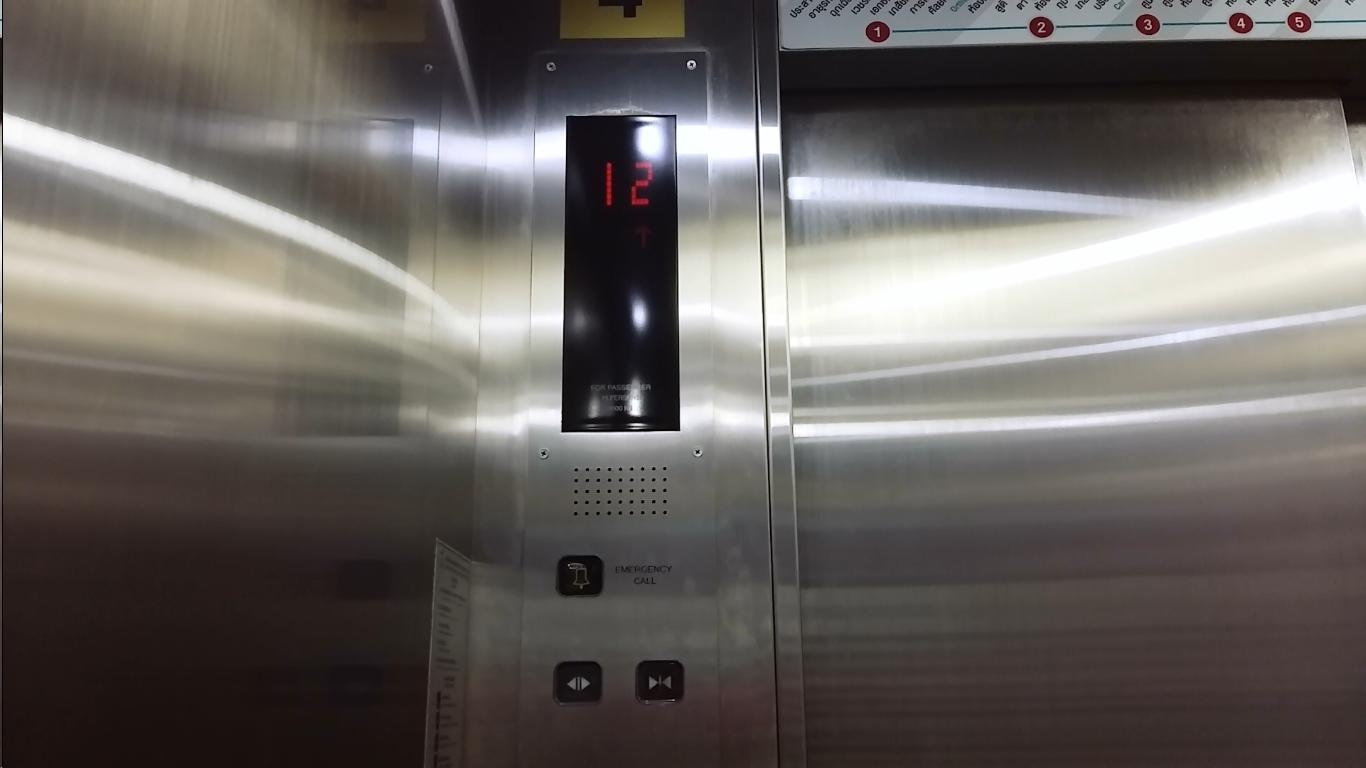alarm: (554, 552, 606, 600)
close: (632, 657, 686, 705)
led: (558, 110, 683, 438)
open: (549, 658, 604, 707)
